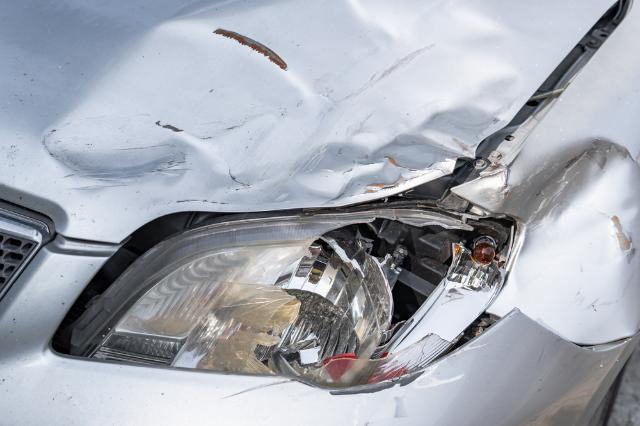dent: (45, 0, 522, 216), (498, 140, 640, 344)
lamp broken: (63, 209, 519, 387)
scratch: (221, 370, 432, 400)
